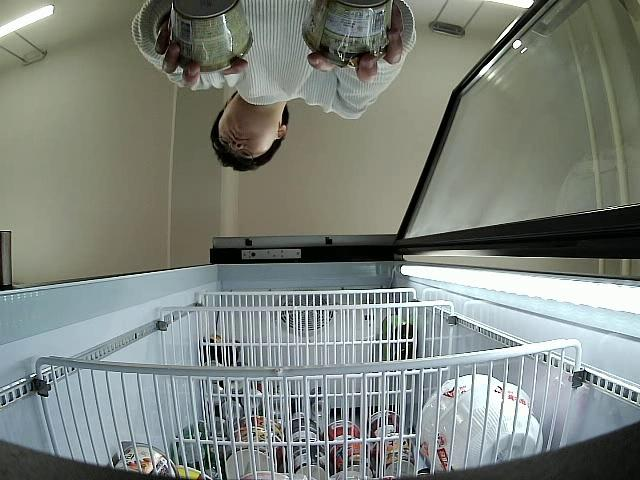00_hand: (309, 3, 405, 85), (153, 23, 250, 91)
04_chapagetti_S: (302, 0, 395, 67), (168, 0, 253, 72)
